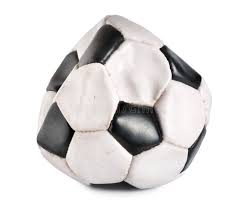football ball: (34, 15, 216, 193)
